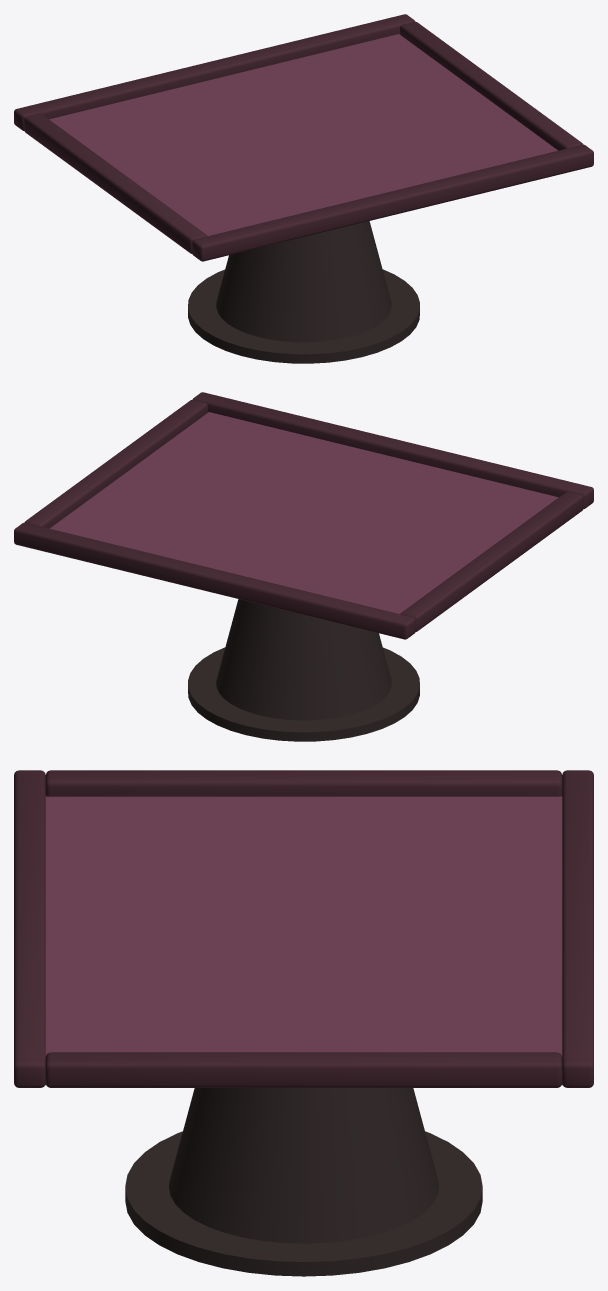
Rendered from Table.fbx.
3 renders of one model, top to bottom at view 1: azimuth 30°, elevation 25°; view 2: azimuth 150°, elevation 25°; view 3: azimuth 270°, elevation 25°, orthographic. The views are drawn at different scales.
Visible parts, largest first — view 1: Table_Felt, Table_Rim, Table_Base; view 2: Table_Felt, Table_Rim, Table_Base; view 3: Table_Felt, Table_Base, Table_Rim.
Part boxes in pixels (x1,y1,x2,y2): Table_Felt: (49, 34, 557, 235); Table_Rim: (14, 14, 593, 261); Table_Base: (188, 221, 419, 363); Table_Felt: (50, 412, 558, 613); Table_Rim: (14, 392, 593, 639); Table_Base: (188, 599, 419, 741); Table_Felt: (45, 796, 562, 1056); Table_Base: (125, 1088, 482, 1276); Table_Rim: (14, 770, 593, 1087).
Bounding box in the file's own units: 1.76 × 0.79 × 1.46.
